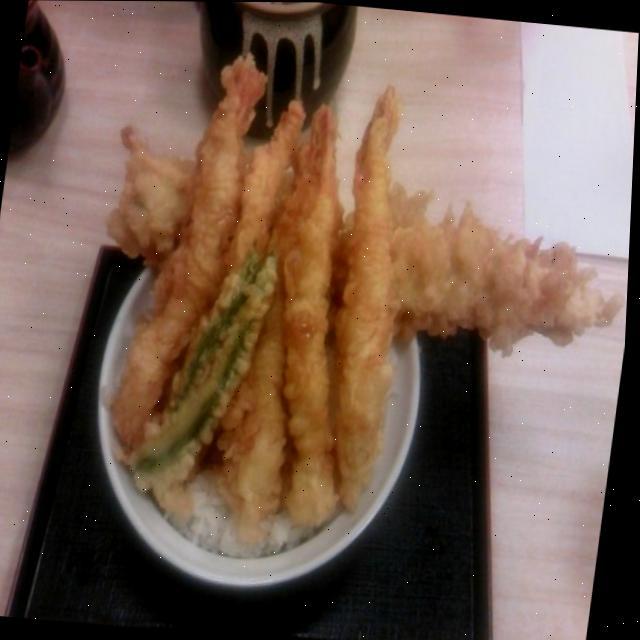熟制海鲜: (62, 31, 639, 625)
